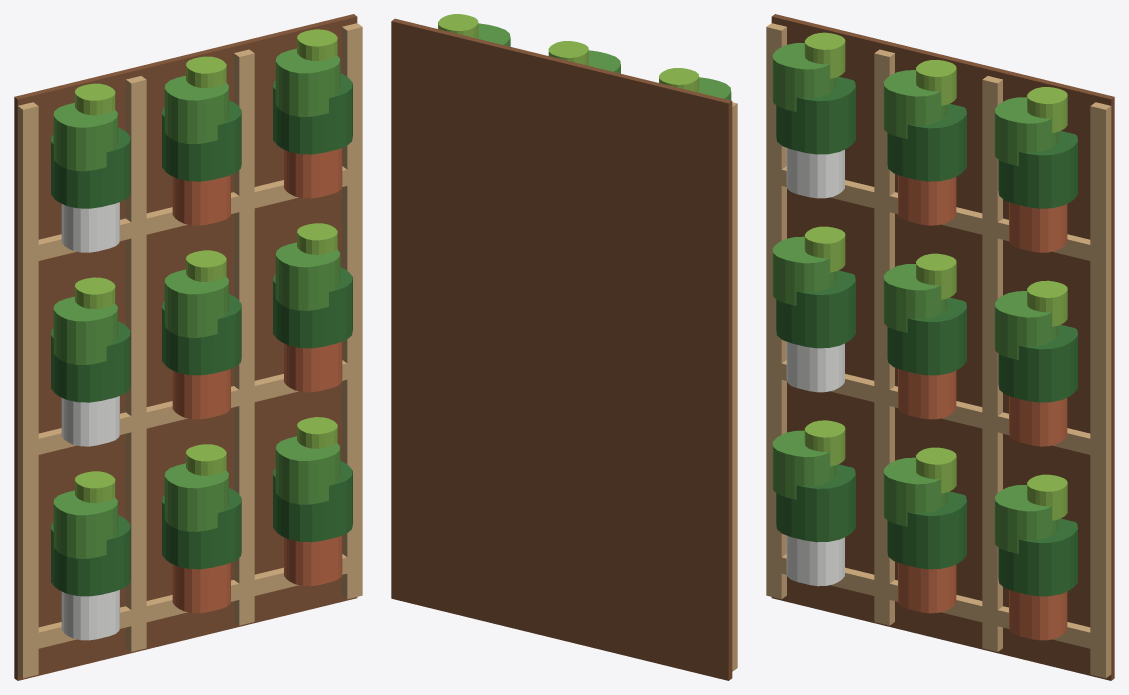
File: wall_plant.glb
The picture shows the model from 3 angles, left to right: view 1: azimuth 30°, elevation 25°; view 2: azimuth 150°, elevation 25°; view 3: azimuth 330°, elevation 25°; orthographic projection.
Visible parts, largest first — view 1: wall_plant_Body; view 2: wall_plant_Body; view 3: wall_plant_Body.
Part boxes in pixels (bbox=[...]): wall_plant_Body: bbox=[14, 14, 362, 680]; wall_plant_Body: bbox=[391, 14, 737, 680]; wall_plant_Body: bbox=[766, 14, 1114, 680].
Size of the model in its own units: 1.1 by 1.8 by 0.2001.
